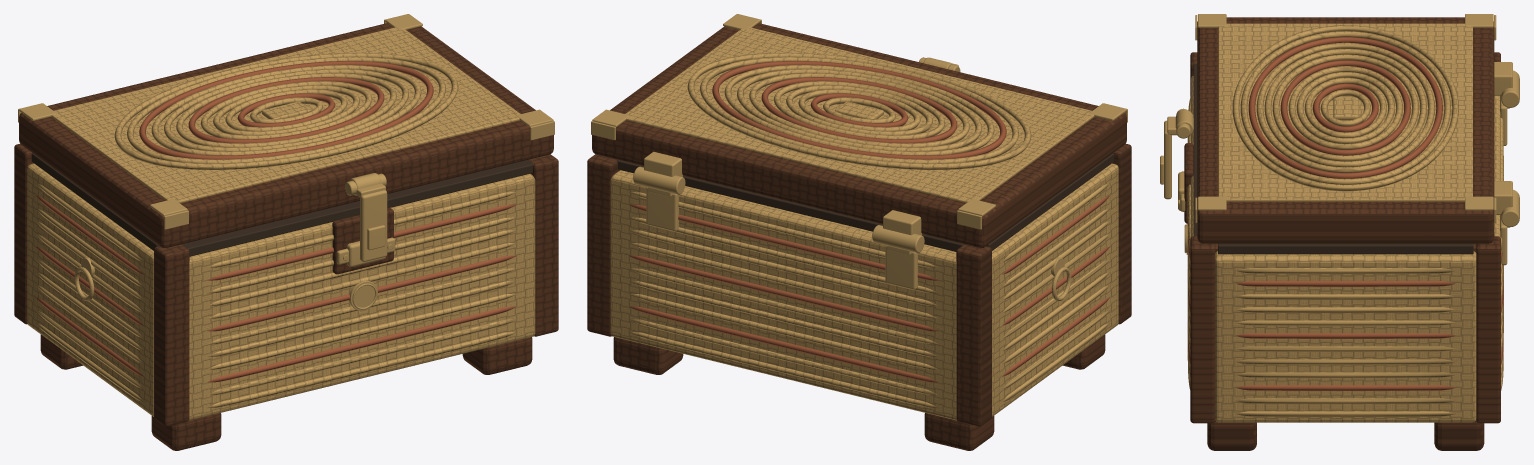
Rendered from eswatini.glb.
3 views of the same model, side by side, from view 1: azimuth 30°, elevation 25°; view 2: azimuth 150°, elevation 25°; view 3: azimuth 270°, elevation 25° (orthographic). The views are drawn at different scales.
Parts seen in each view (by area): view 1: Woven panel / front-rear, Lid / polished slab, Lid / woven field, Woven panel / side, Binding / corner, Seam / long, Lid coil / 00, Binding / corner.002, Lid coil / 01, Lid coil / 02, Lid coil / 03, Lid coil / 04 (+28 smaller); view 2: Woven panel / front-rear.001, Lid / polished slab, Lid / woven field, Woven panel / side, Binding / corner.001, Lid coil / 00, Binding / corner.003, Lid coil / 01, Lid coil / 02, Lid coil / 03, Lid coil / 04, Body coil / 02 (+31 smaller); view 3: Woven panel / side.001, Lid / polished slab, Lid / woven field, Binding / corner.002, Binding / corner.003, Lid coil / 00, Lid coil / 01, Lid coil / 02, Lid coil / 03, Seam / side.001, Lid coil / 04, Lid coil / 05 (+33 smaller).
Boxes of the visible parts, x1=… form: Woven panel / front-rear: x1=189, y1=173, x2=535, y2=420; Lid / polished slab: x1=19, y1=23, x2=553, y2=247; Lid / woven field: x1=51, y1=27, x2=520, y2=203; Woven panel / side: x1=27, y1=163, x2=153, y2=416; Binding / corner: x1=154, y1=244, x2=189, y2=426; Seam / long: x1=182, y1=160, x2=533, y2=256; Lid coil / 00: x1=114, y1=52, x2=458, y2=169; Binding / corner.002: x1=528, y1=154, x2=558, y2=336; Lid coil / 01: x1=127, y1=57, x2=445, y2=163; Lid coil / 02: x1=139, y1=61, x2=433, y2=159; Lid coil / 03: x1=151, y1=65, x2=421, y2=155; Lid coil / 04: x1=164, y1=69, x2=408, y2=151; Woven panel / front-rear.001: x1=610, y1=170, x2=956, y2=420; Lid / polished slab: x1=592, y1=23, x2=1126, y2=247; Lid / woven field: x1=625, y1=27, x2=1094, y2=203; Woven panel / side: x1=992, y1=163, x2=1118, y2=416; Binding / corner.001: x1=956, y1=244, x2=991, y2=426; Lid coil / 00: x1=687, y1=52, x2=1031, y2=169; Binding / corner.003: x1=587, y1=154, x2=619, y2=336; Lid coil / 01: x1=700, y1=57, x2=1018, y2=163; Lid coil / 02: x1=712, y1=61, x2=1006, y2=159; Lid coil / 03: x1=724, y1=65, x2=994, y2=155; Lid coil / 04: x1=737, y1=69, x2=981, y2=151; Body coil / 02: x1=629, y1=297, x2=1109, y2=382; Woven panel / side.001: x1=1215, y1=251, x2=1476, y2=422; Lid / polished slab: x1=1197, y1=17, x2=1494, y2=243; Lid / woven field: x1=1218, y1=23, x2=1472, y2=201; Binding / corner.002: x1=1190, y1=236, x2=1215, y2=423; Binding / corner.003: x1=1476, y1=236, x2=1500, y2=423; Lid coil / 00: x1=1232, y1=25, x2=1458, y2=191; Lid coil / 01: x1=1240, y1=31, x2=1450, y2=184; Lid coil / 02: x1=1248, y1=37, x2=1442, y2=178; Lid coil / 03: x1=1256, y1=42, x2=1434, y2=172; Seam / side.001: x1=1218, y1=243, x2=1473, y2=254; Lid coil / 04: x1=1264, y1=48, x2=1426, y2=167; Lid coil / 05: x1=1272, y1=54, x2=1418, y2=161.
Size of the model in its own units: 3.81 by 2.28 by 2.88.
5 materials, 2 textured.
